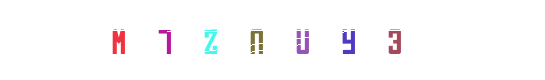3: (309, 0, 389, 80)
7: (170, 0, 250, 80)
M: (79, 0, 159, 80)
N: (228, 0, 308, 80)
U: (232, 0, 312, 80)
Y: (287, 0, 367, 80)
Z: (213, 0, 293, 80)
